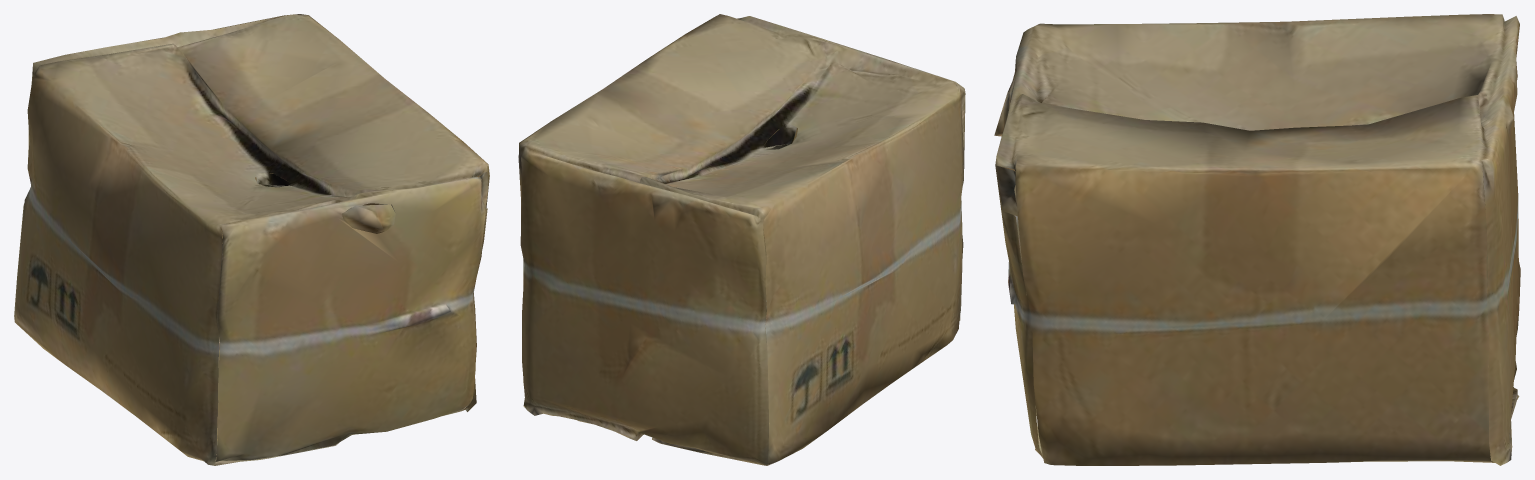
File: cardboard_box_01_1k.gltf
3 views of the same model, side by side, from view 1: azimuth 30°, elevation 25°; view 2: azimuth 150°, elevation 25°; view 3: azimuth 270°, elevation 25° (orthographic). The views are drawn at different scales.
Parts seen in each view (by area): view 1: cardboard_box_01_LOD0; view 2: cardboard_box_01_LOD0; view 3: cardboard_box_01_LOD0.
Part boxes in pixels (box(x1,y1,x2,y2)): cardboard_box_01_LOD0: box(14, 14, 489, 465); cardboard_box_01_LOD0: box(518, 14, 965, 465); cardboard_box_01_LOD0: box(994, 14, 1520, 465).
Size of what is drawn, in the model's own units: 0.3872 by 0.3403 by 0.5149.
1 material, 1 textured.
